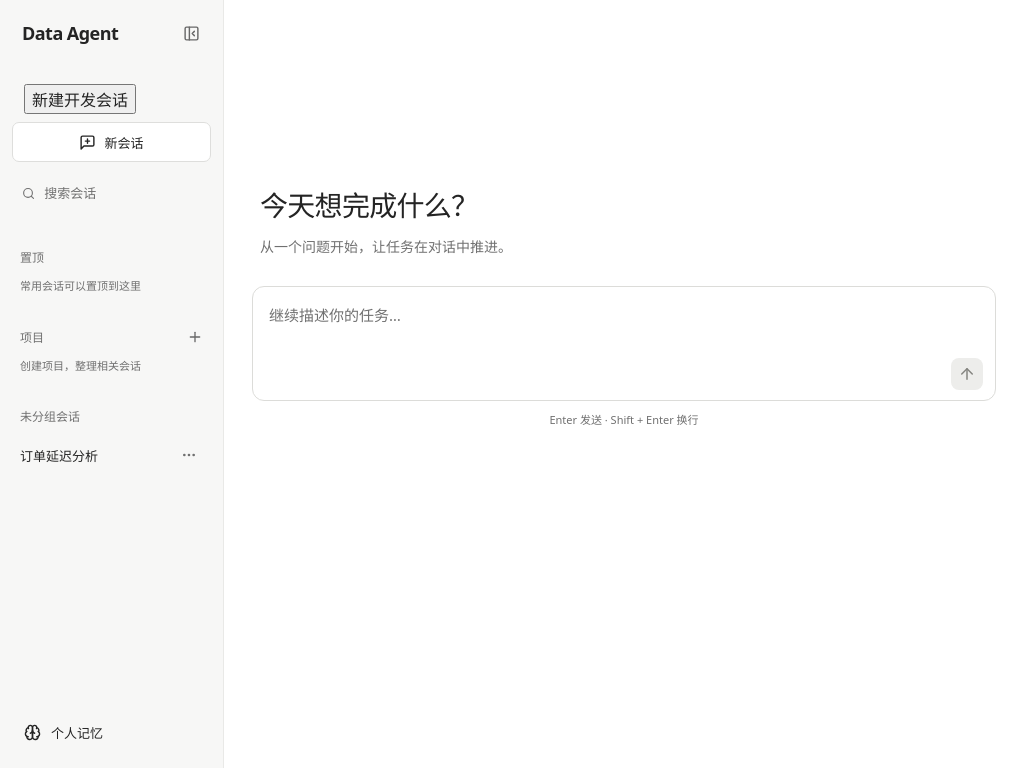
Test: server-backed conversation workspace › renders assistant answers as GFM markdown while keeping user messages as plain text
Step 1. Click the button "订单延迟分析" → (90, 455), box [12,437,167,474]
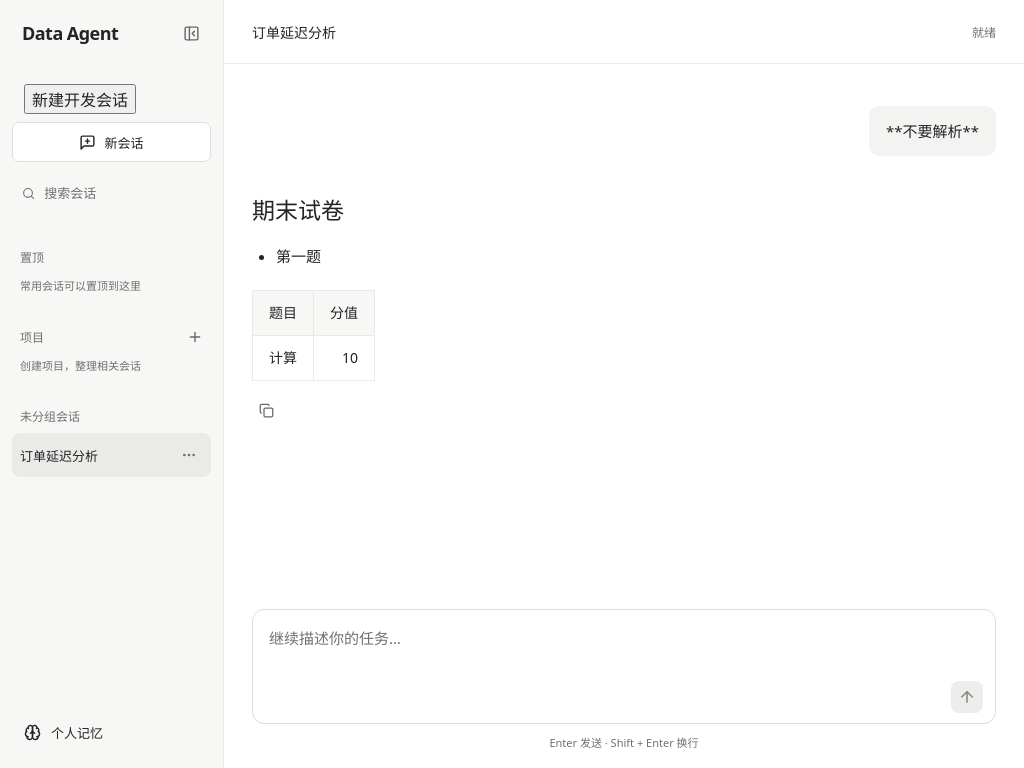
Now the heading "期末试卷" is shown, box [252,194,344,226]
Now the table is shown, box [252,290,996,381]
